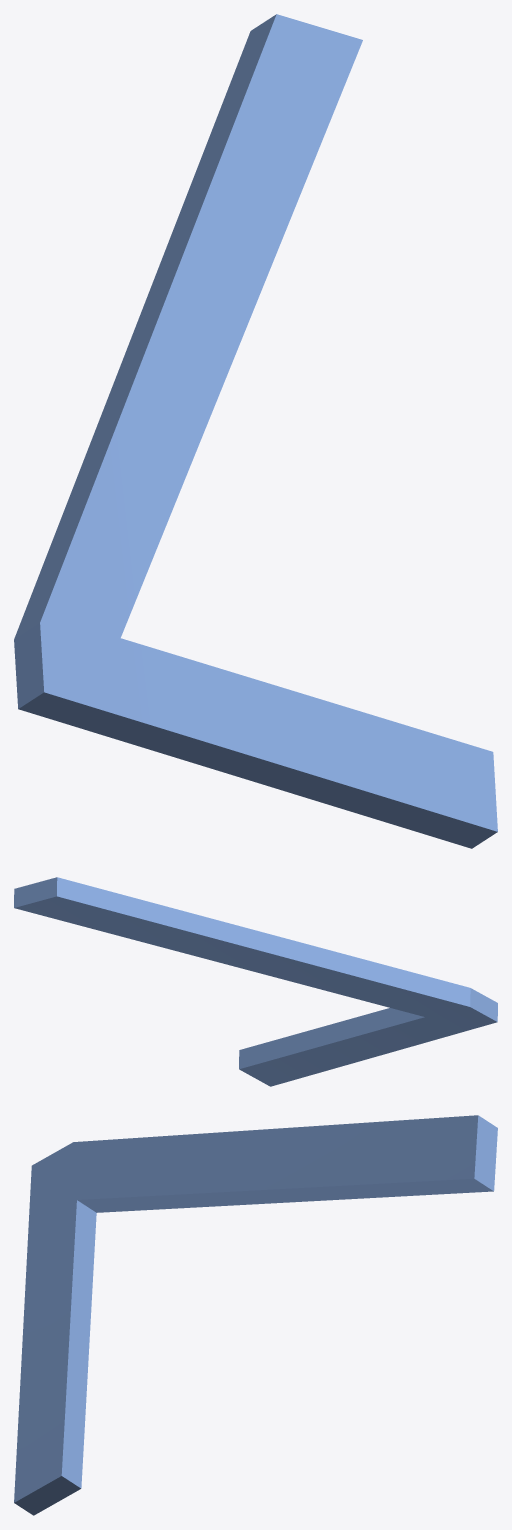
Rendered from New_Number_7.gltf.
The picture shows the model from 3 angles, top to bottom: view 1: azimuth 30°, elevation 25°; view 2: azimuth 150°, elevation 25°; view 3: azimuth 270°, elevation 25°; orthographic projection. The views are drawn at different scales.
Parts seen in each view (by area): view 1: Part 214; view 2: Part 214; view 3: Part 214.
Boxes of the visible parts, <box> form: Part 214: <box>14,14,497,848</box>; Part 214: <box>14,877,497,1086</box>; Part 214: <box>14,1115,497,1515</box>.
Bounding box in the file's own units: 0.00464 × 0.00416 × 0.00416.
